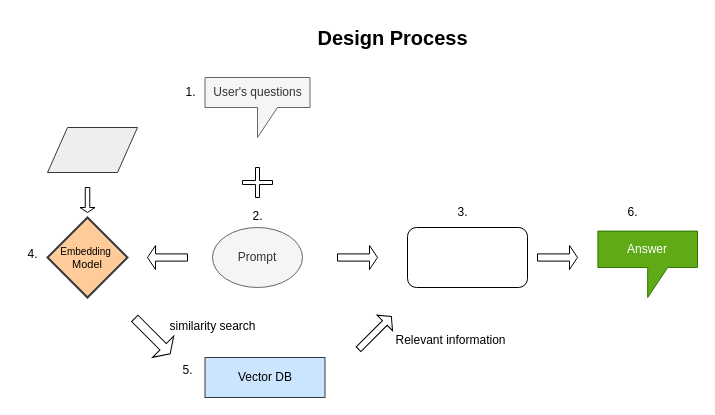
This 715x415 diagram has some shape labels left out. The box of each missing label's shape, as (x1, y1, x2, y2) in pixels:
CSV document: (46, 126, 138, 172)
LLM: (406, 226, 528, 288)
